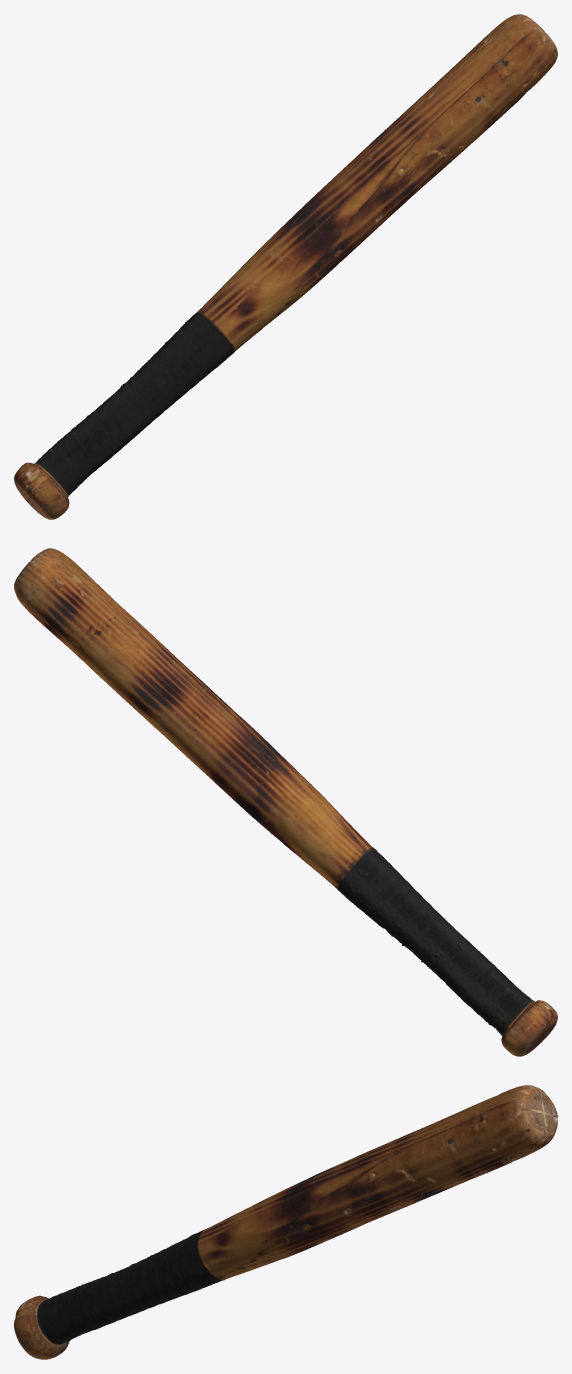
File: wood1.glb
The picture shows the model from 3 angles, top to bottom: view 1: azimuth 30°, elevation 25°; view 2: azimuth 150°, elevation 25°; view 3: azimuth 330°, elevation 25°; orthographic projection.
Bounding box in the file's own units: 0.4865 × 0.3359 × 0.0544.
1 material, 1 textured.
